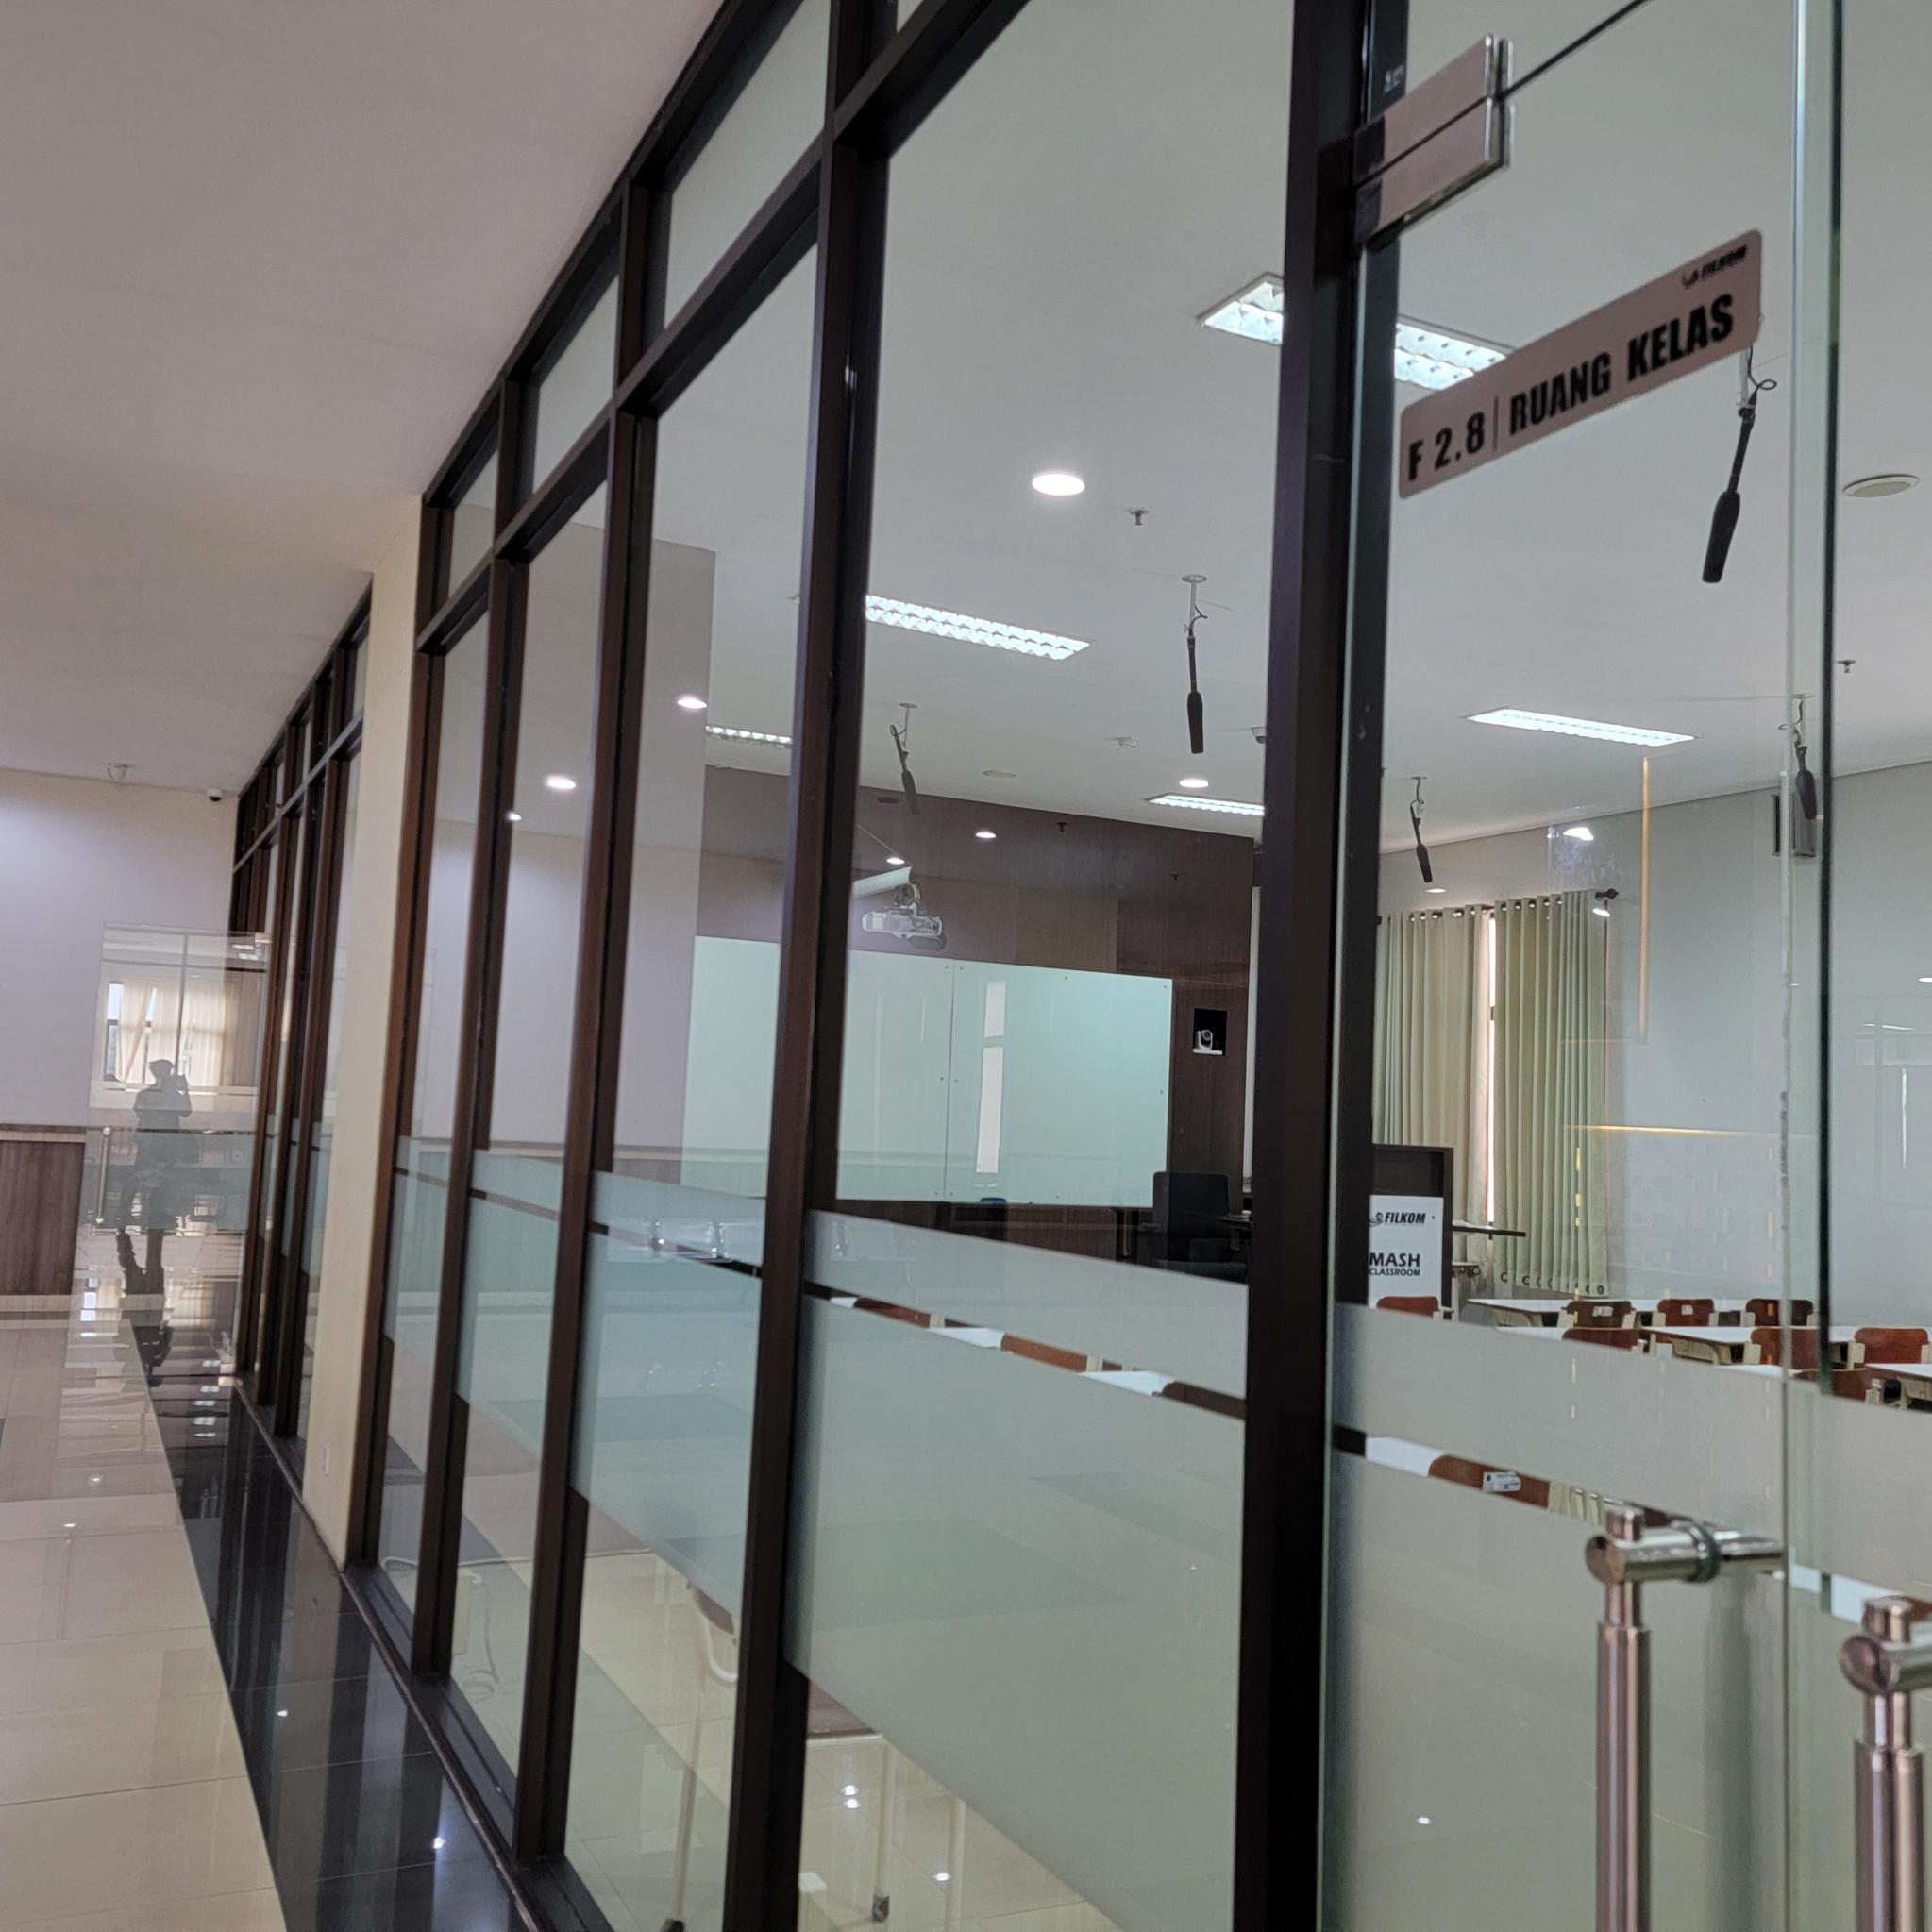plate: (1398, 228, 1766, 499)
